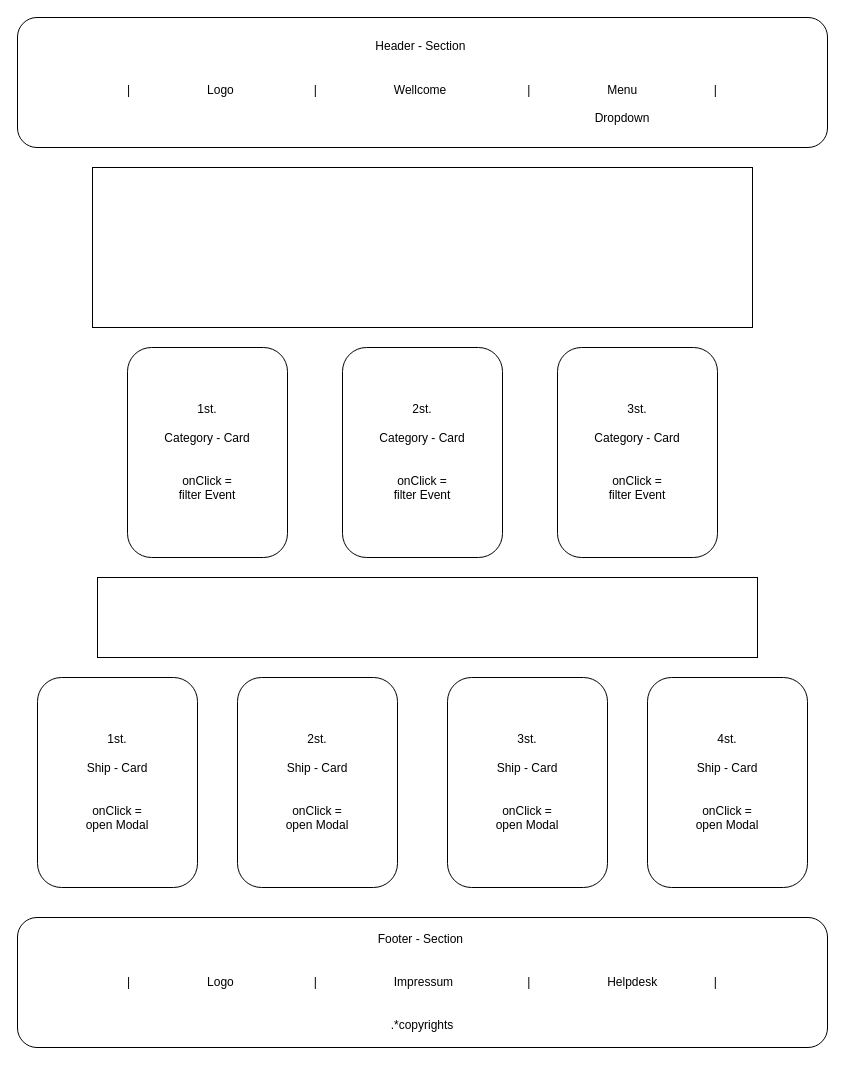
The diagram is 845 pixels wide and 1065 high, and some of its shapes have lost their labels. Here are the shapes that lost their labels. From the top down, the centre of each, then its label:
[422,247]: Discription Content Explore the App
[427,617]: Filter Content Explore the Ships
